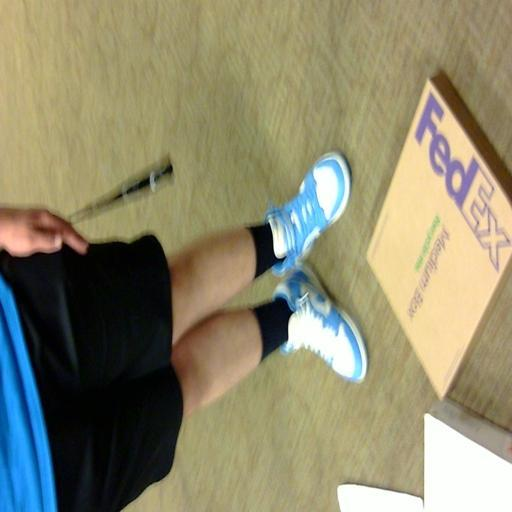Amazon: (367, 87, 512, 376)
